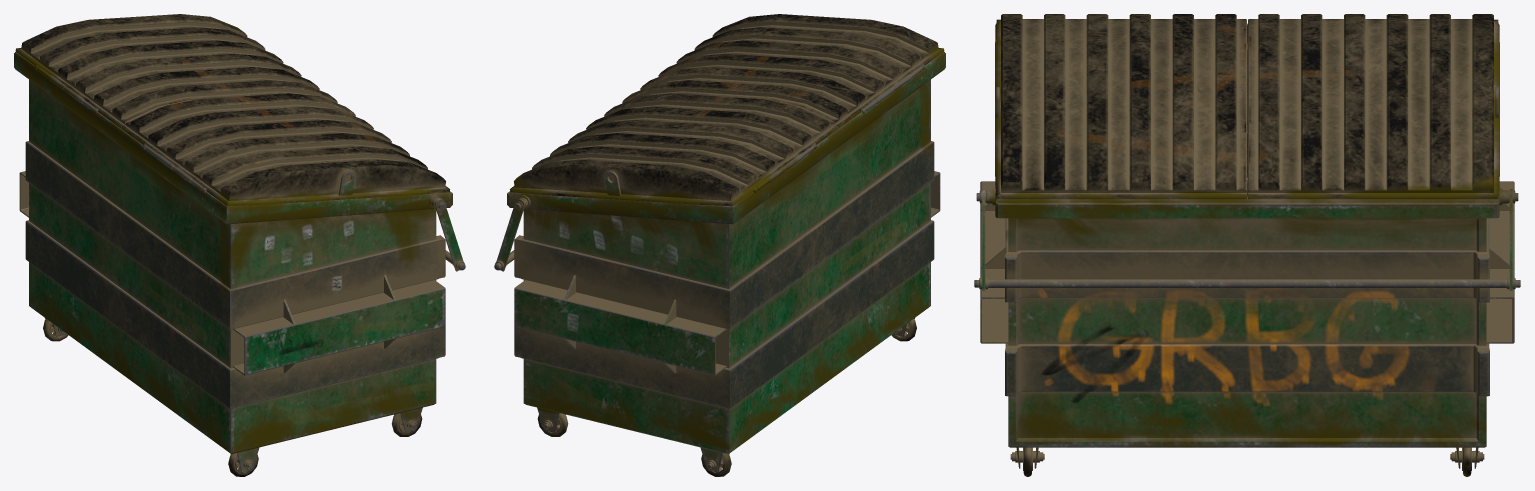
The model's file is dumpster.glb.
The picture shows the model from 3 angles, left to right: view 1: azimuth 30°, elevation 25°; view 2: azimuth 150°, elevation 25°; view 3: azimuth 270°, elevation 25°; orthographic projection. The views are drawn at different scales.
Parts seen in each view (by area): view 1: Dumpster; view 2: Dumpster; view 3: Dumpster.
Boxes of the visible parts, x1,y1,x2,y2 form: Dumpster: [14, 14, 465, 476]; Dumpster: [494, 14, 945, 476]; Dumpster: [974, 14, 1520, 476].
Bounding box in the file's own units: 2.28 × 2.84 × 3.89.
Materials: 1 (1 with a texture image).
